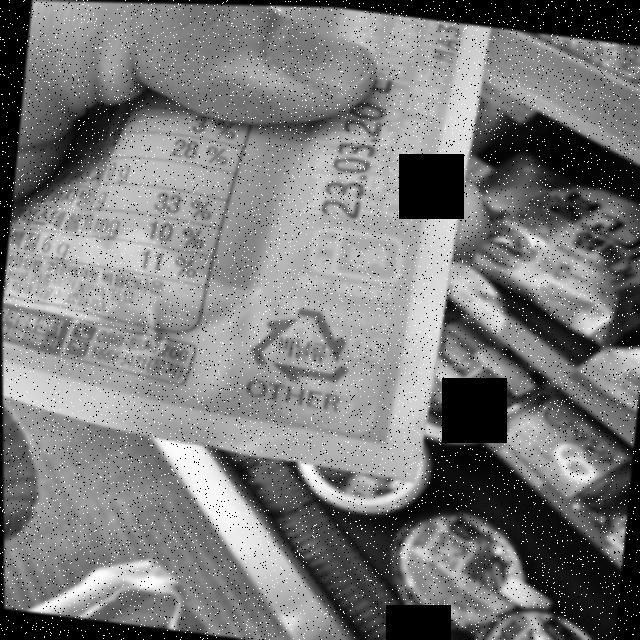Vinyl: (242, 297, 354, 387)
